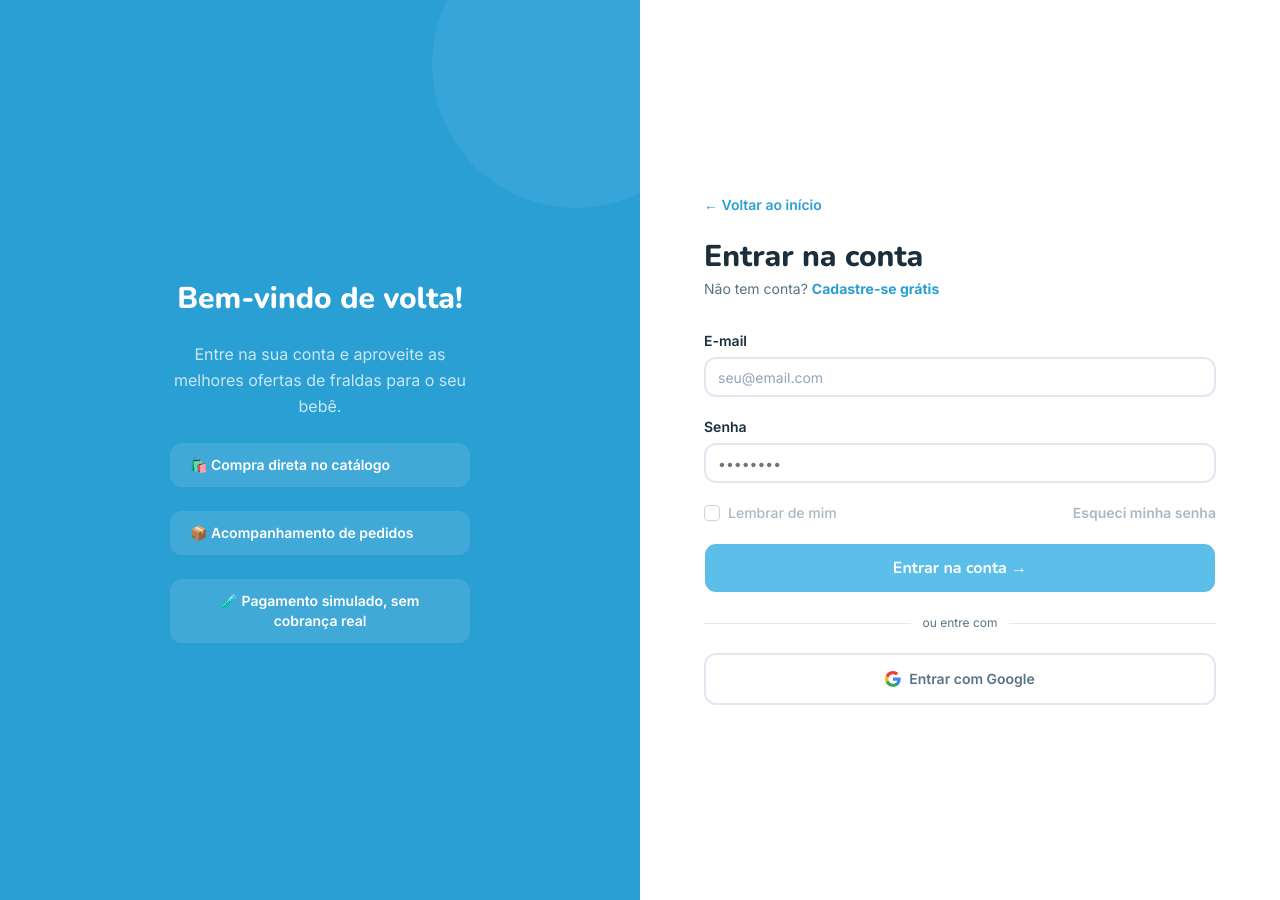
Test: LoginPage › disables buttons during loading to prevent duplicate clicks
Click the button "Entrar com Google" at (960,679), box [704, 653, 1216, 705]
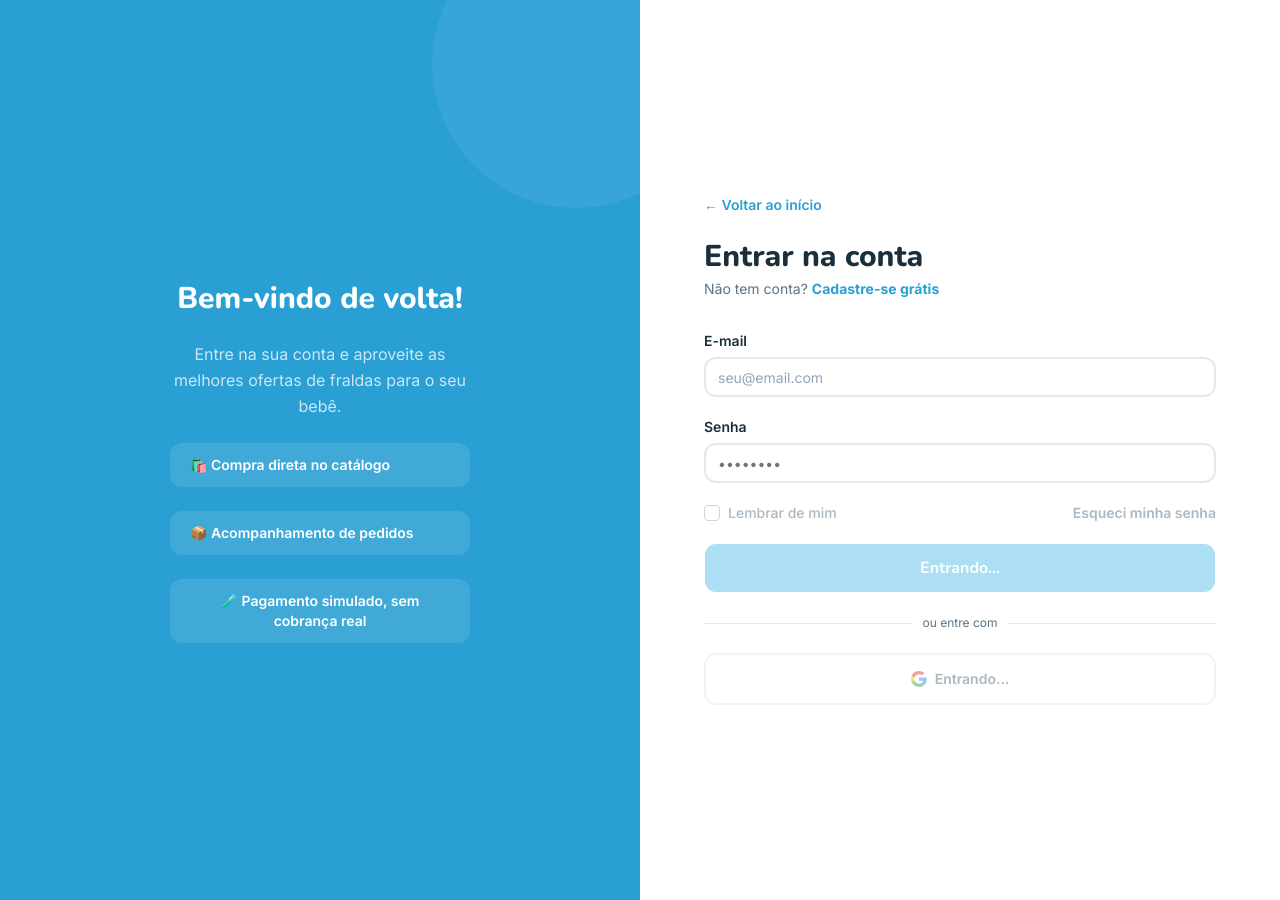
Expected: the button named "Entrar com Google" is disabled
Expected: the button named "Entrar na conta" is disabled, [704, 543, 1216, 593]
Click the button named "Entrar com Google" at (960,679), box [704, 653, 1216, 705]
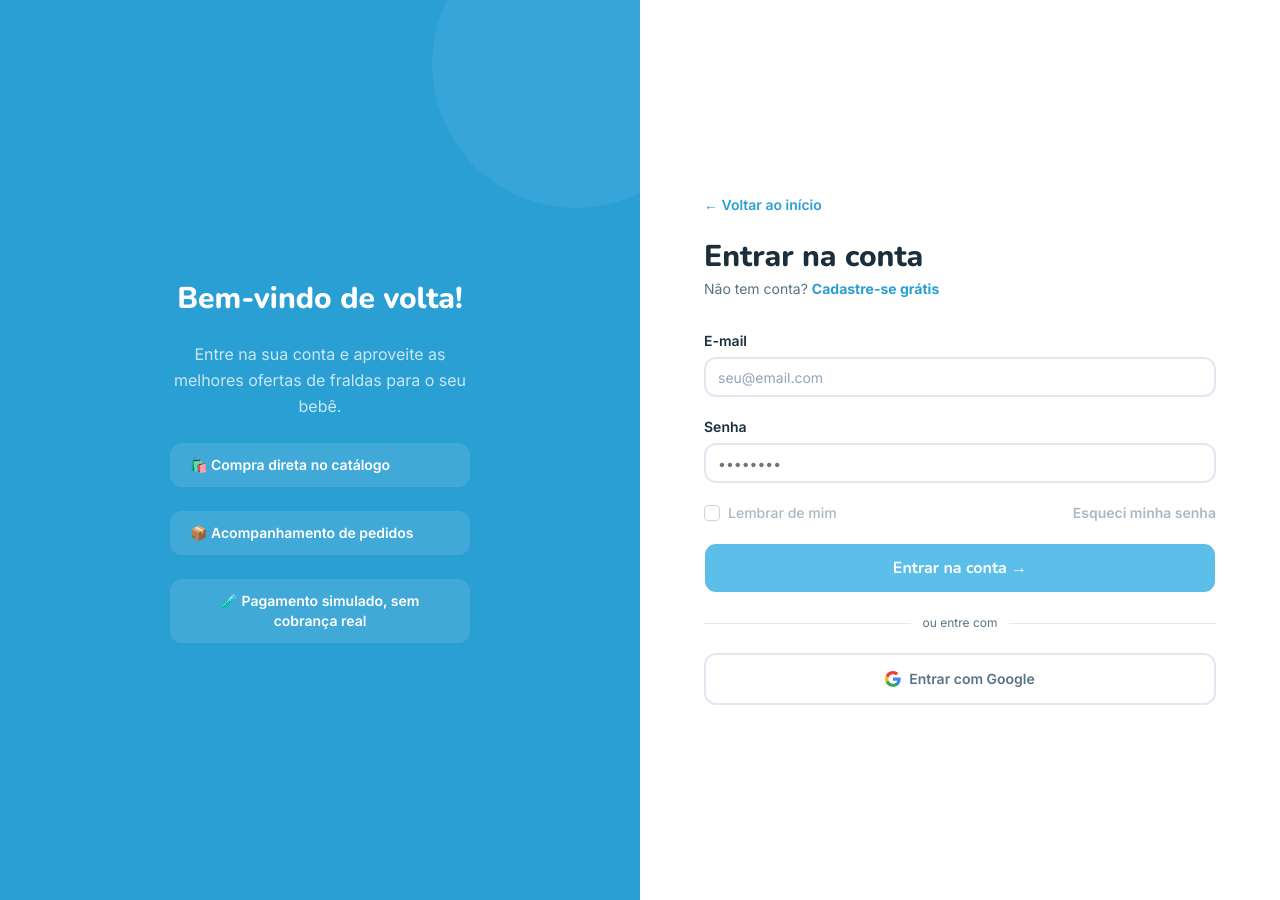
Expected: the button "Entrar com Google" is enabled, [704, 653, 1216, 705]
